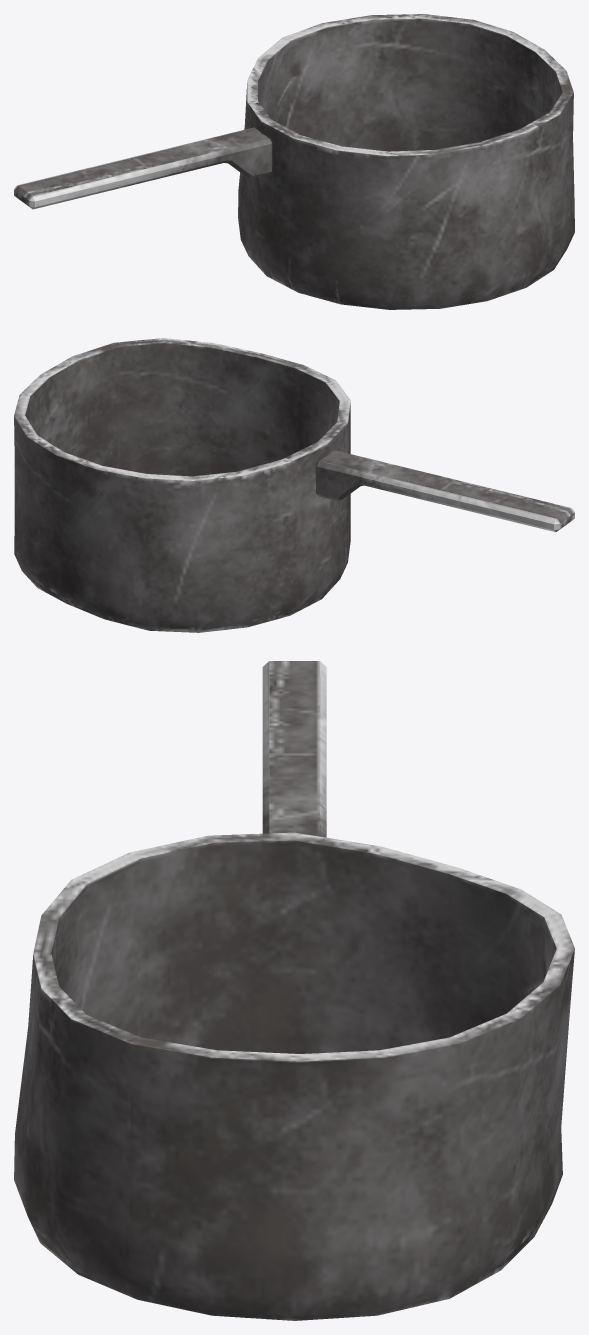
Rendered from SM_Pan_01.fbx.
The picture shows the model from 3 angles, top to bottom: view 1: azimuth 30°, elevation 25°; view 2: azimuth 150°, elevation 25°; view 3: azimuth 270°, elevation 25°; orthographic projection. The views are drawn at different scales.
Visible parts, largest first — view 1: SM_Pan_01_LOD0; view 2: SM_Pan_01_LOD0; view 3: SM_Pan_01_LOD0.
Boxes of the visible parts, <box> form: SM_Pan_01_LOD0: <box>14,14,574,309</box>; SM_Pan_01_LOD0: <box>14,338,574,632</box>; SM_Pan_01_LOD0: <box>14,661,574,1320</box>.
Size of the model in its own units: 45.15 by 24.99 by 13.37.
1 material, 1 textured.
